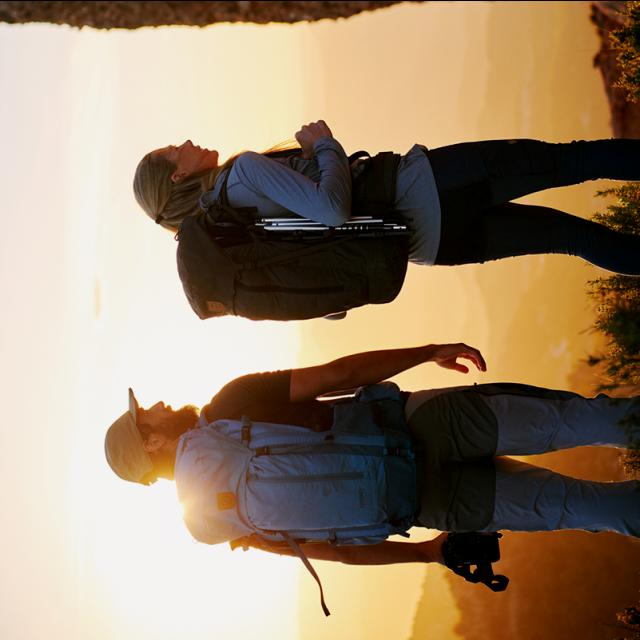backpack: (180, 382, 424, 558), (175, 150, 414, 322)
